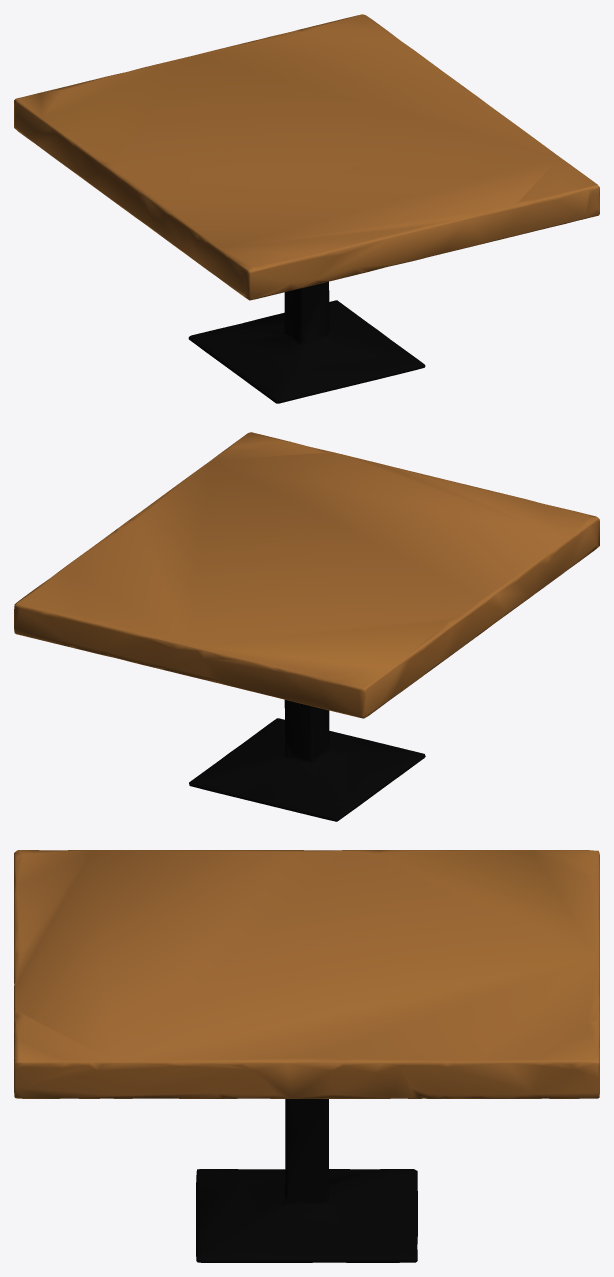
Rendered from gen3d-restaurant-table-lod1.glb.
The picture shows the model from 3 angles, top to bottom: view 1: azimuth 30°, elevation 25°; view 2: azimuth 150°, elevation 25°; view 3: azimuth 270°, elevation 25°; orthographic projection. The views are drawn at different scales.
Parts seen in each view (by area): view 1: part_0; view 2: part_0; view 3: part_0.
Boxes of the visible parts, x1=… form: part_0: x1=14, y1=14, x2=599, y2=403; part_0: x1=14, y1=432, x2=599, y2=821; part_0: x1=14, y1=850, x2=599, y2=1262.
Size of the model in its own units: 1.74 by 0.9999 by 2.02.
